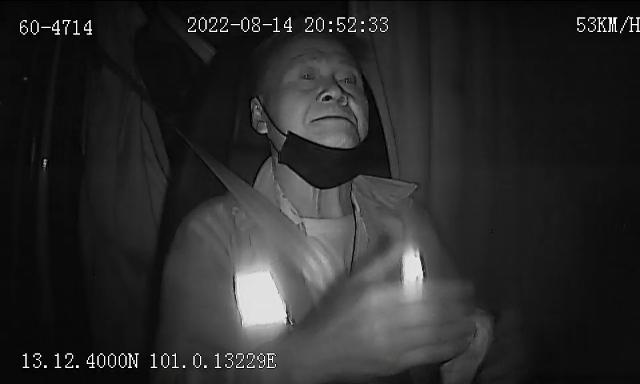Seatbelt: (170, 122, 342, 296)
